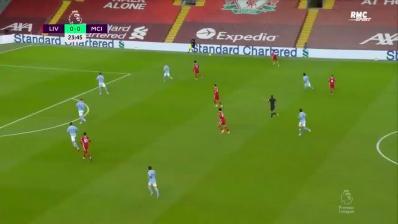football: (206, 52, 213, 58)
player: (145, 164, 162, 200), (296, 107, 313, 138), (216, 105, 231, 136), (66, 120, 80, 152), (80, 131, 94, 161), (95, 71, 111, 96), (75, 98, 89, 124), (211, 83, 224, 109), (192, 58, 204, 82), (162, 62, 174, 84), (326, 74, 338, 96), (301, 72, 314, 92), (270, 48, 282, 68)
referee: (264, 92, 280, 122)
